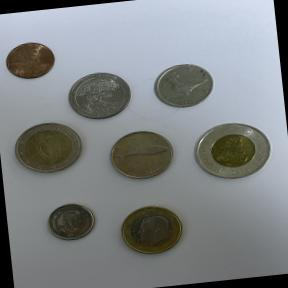1 Euro-B: (111, 197, 197, 265)
2 Euro-B: (6, 118, 88, 184)
Canada-10cent-B: (40, 197, 104, 249)
Canada-2Dollar-B: (186, 115, 280, 192)
Croatia-2Kune-B: (98, 124, 182, 191)
US-1cent-B: (0, 33, 65, 89)
US-25cent-B: (61, 64, 140, 125)
